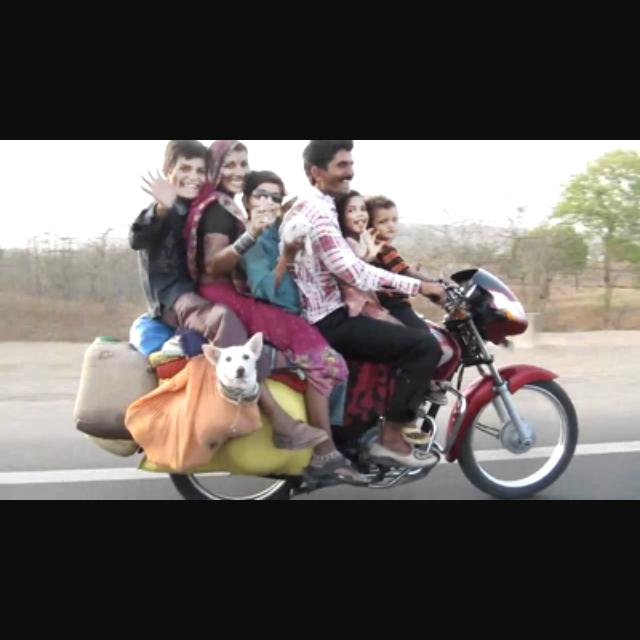Without Helmet: (293, 140, 363, 204), (162, 140, 208, 202), (208, 140, 250, 196), (240, 169, 282, 223), (336, 190, 368, 238), (368, 191, 398, 239)
